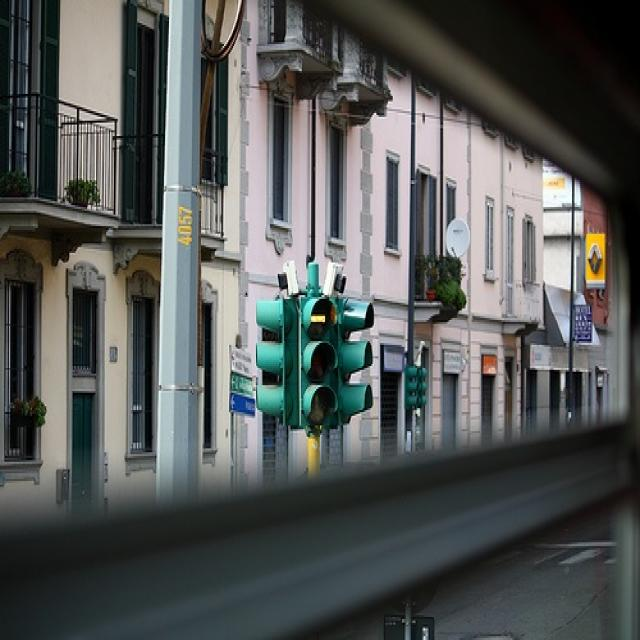pole: (150, 0, 211, 483)
